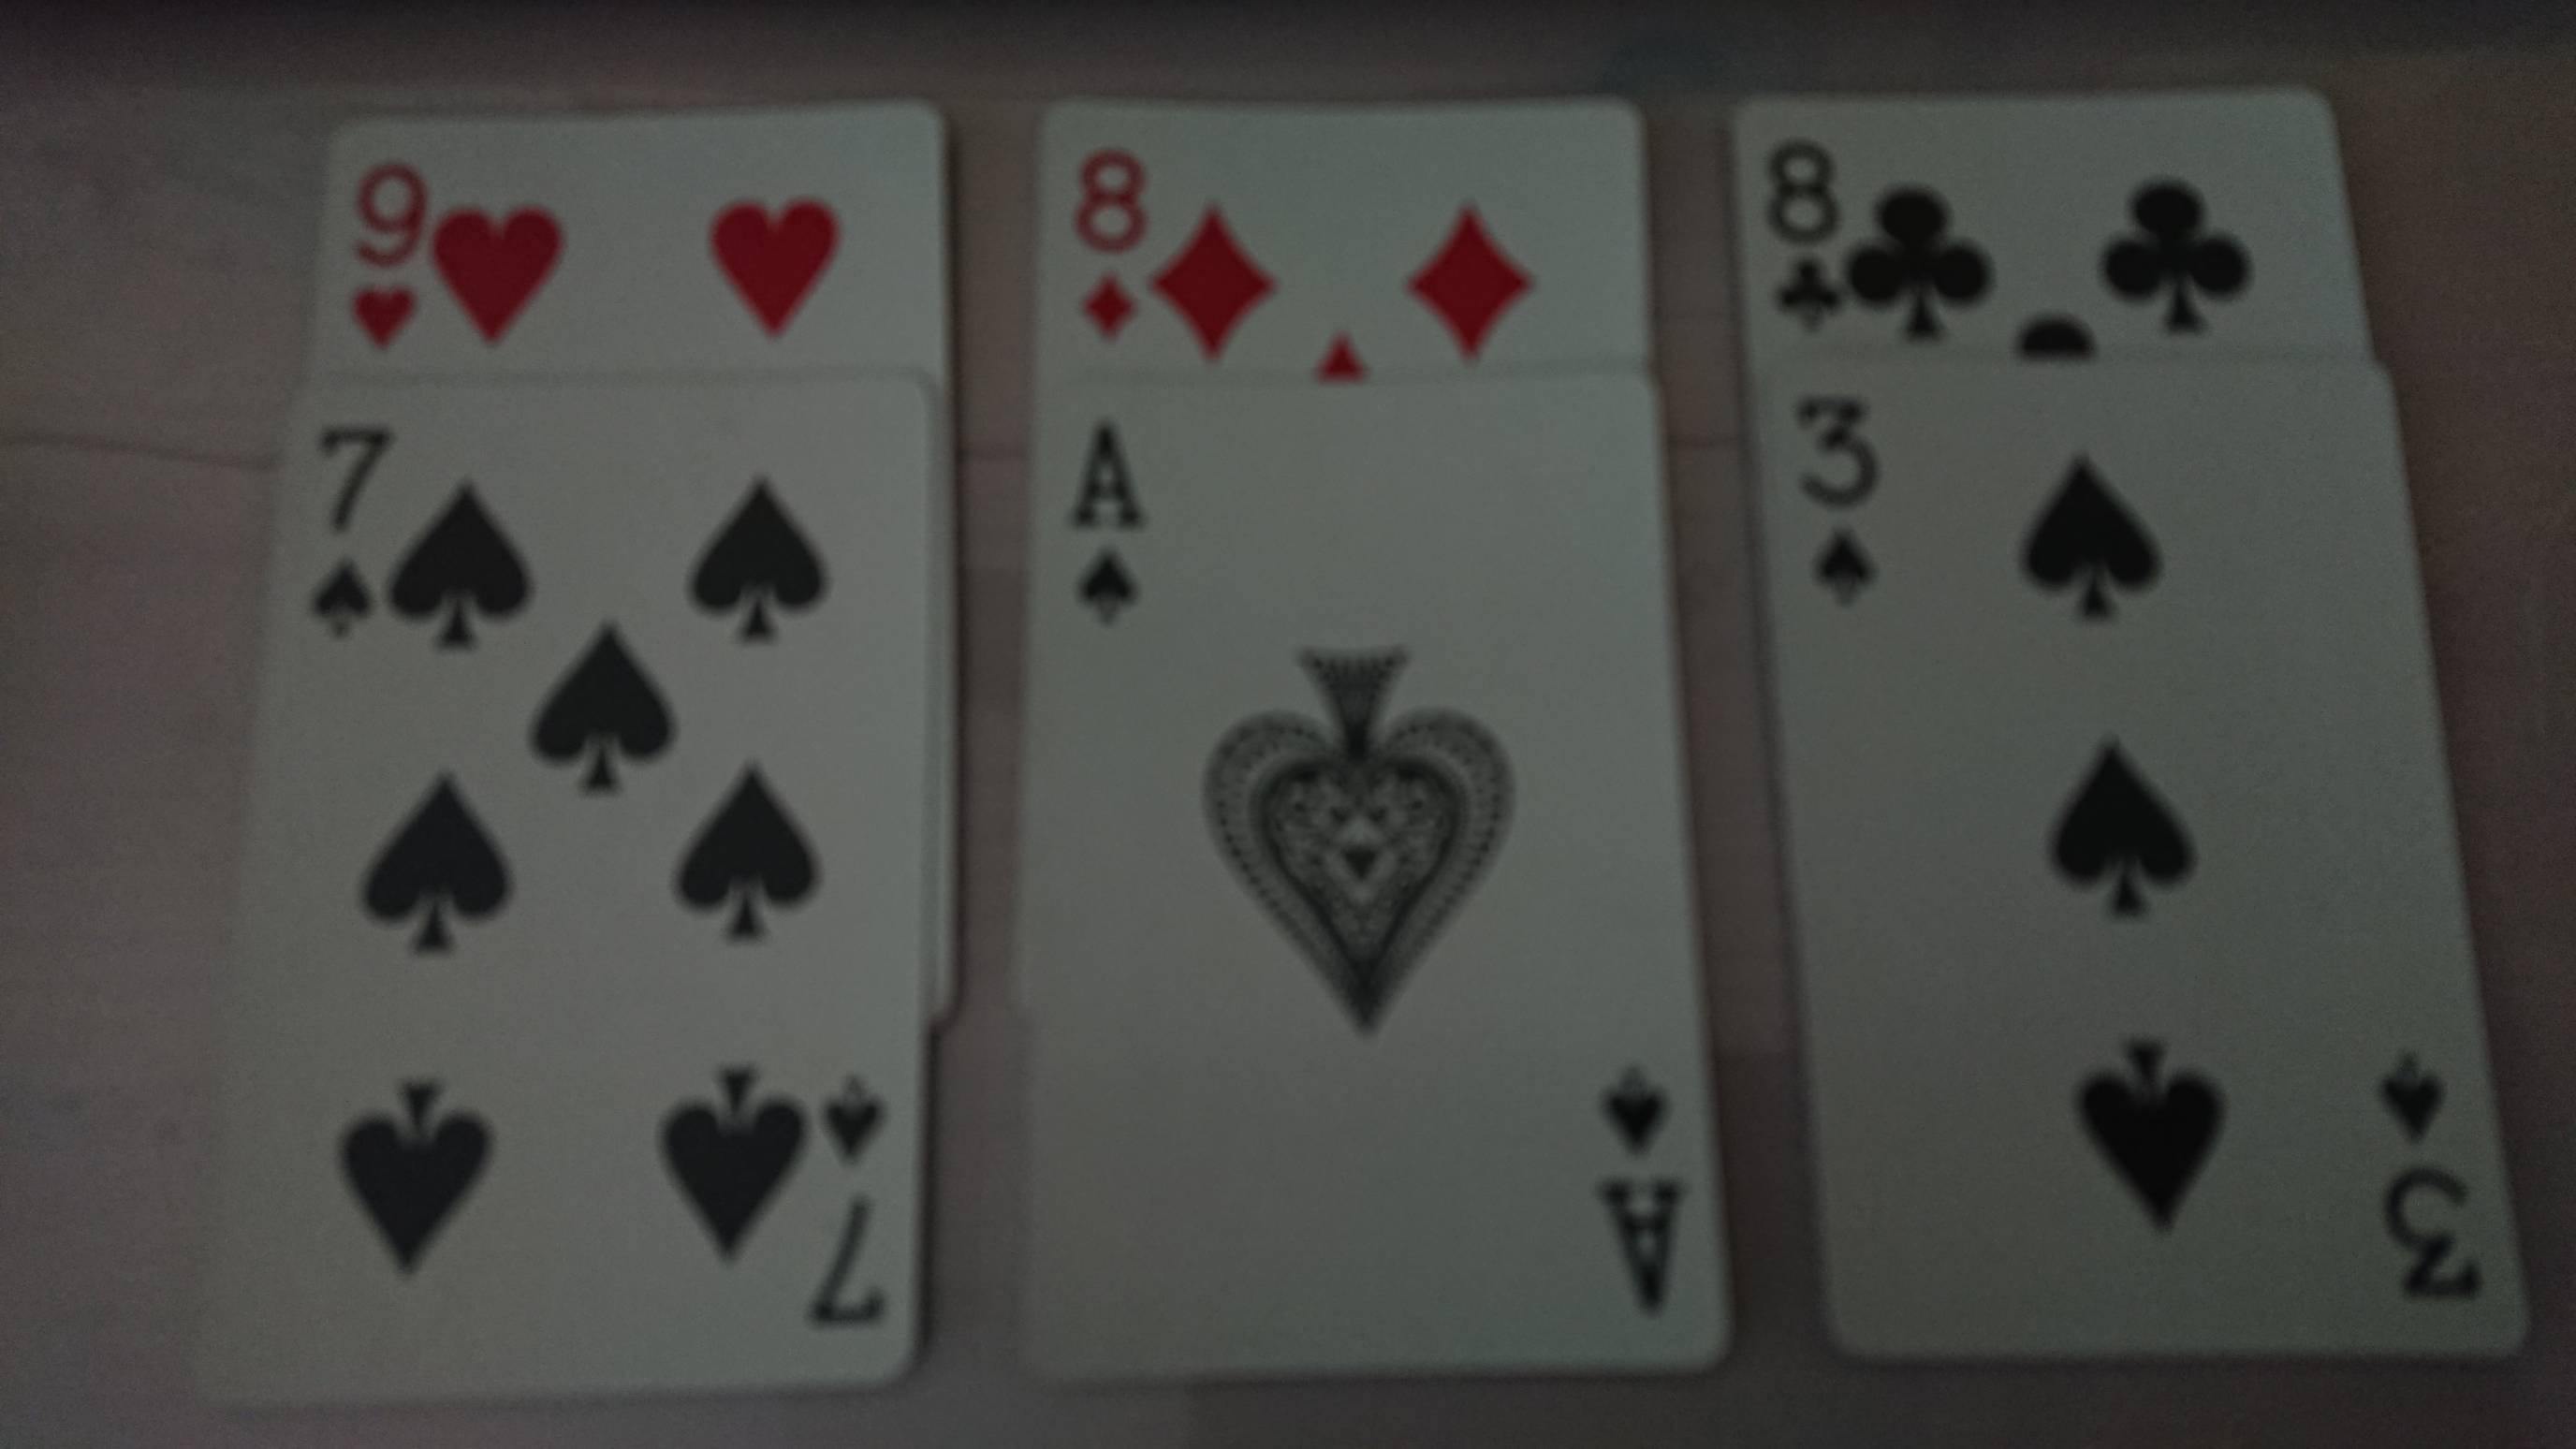3S: (1789, 384, 1884, 612)
7S: (295, 416, 400, 655)
8C: (1750, 131, 1856, 338)
8D: (1062, 138, 1155, 352)
9H: (343, 157, 430, 363)
AS: (1054, 407, 1154, 637)
